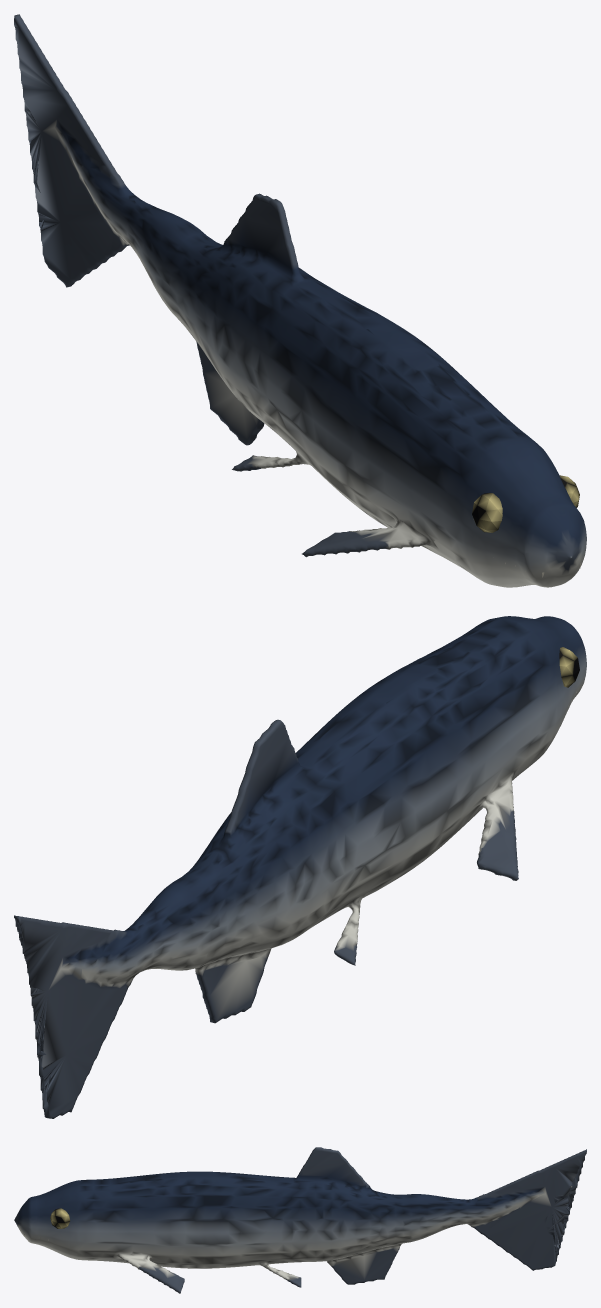
Rendered from Palaeoniscum.fbx.
3 views of the same model, one above another, from view 1: azimuth 30°, elevation 25°; view 2: azimuth 150°, elevation 25°; view 3: azimuth 270°, elevation 25° (orthographic). The views are drawn at different scales.
Parts seen in each view (by area): view 1: Palaeoniscum; view 2: Palaeoniscum; view 3: Palaeoniscum.
Boxes of the visible parts, x1,y1,x2,y2 form: Palaeoniscum: [14, 14, 586, 587]; Palaeoniscum: [14, 616, 586, 1118]; Palaeoniscum: [14, 1147, 586, 1293].
Size of the model in its own units: 0.2792 by 0.3257 by 1.24.
